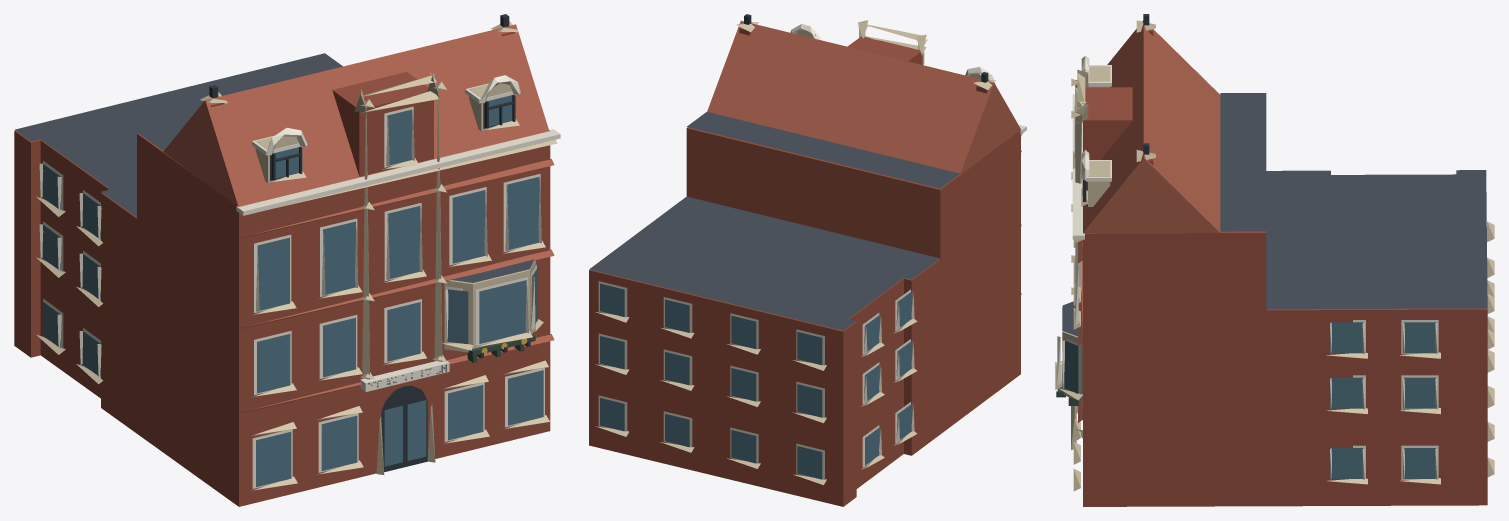
Rendered from pianola-museum.lod1.glb.
3 renders of one model, left to right at view 1: azimuth 30°, elevation 25°; view 2: azimuth 150°, elevation 25°; view 3: azimuth 270°, elevation 25°, orthographic. The views are drawn at different scales.
Visible parts, largest first — view 1: pianola-museum; view 2: pianola-museum; view 3: pianola-museum.
Part boxes in pixels (left/top/right/bottom): pianola-museum: left=14, top=14, right=560, bottom=506; pianola-museum: left=589, top=14, right=1026, bottom=506; pianola-museum: left=1055, top=14, right=1494, bottom=506.
Bounding box in the file's own units: 14.45 × 16.79 × 18.69.
